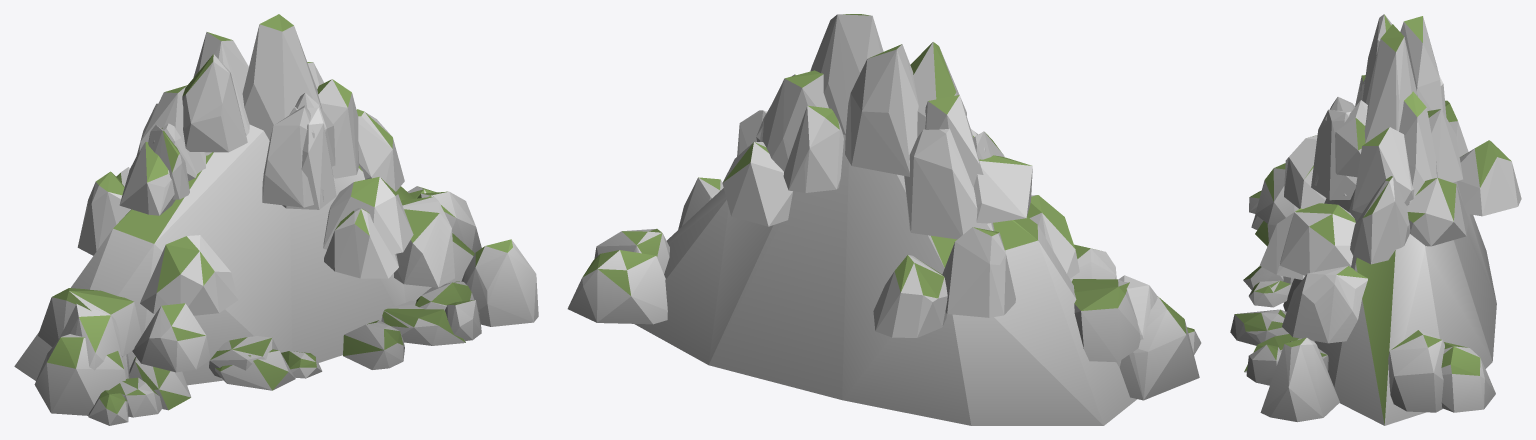
File: rk_mtn_1.glb
3 renders of one model, left to right at view 1: azimuth 30°, elevation 25°; view 2: azimuth 150°, elevation 25°; view 3: azimuth 270°, elevation 25°, orthographic. The views are drawn at different scales.
Parts seen in each view (by area): view 1: rk_mtn_1; view 2: rk_mtn_1; view 3: rk_mtn_1.
Boxes of the visible parts, x1,y1,x2,y2 form: rk_mtn_1: (14, 14, 538, 425); rk_mtn_1: (567, 14, 1201, 425); rk_mtn_1: (1230, 14, 1521, 425).
Bounding box in the file's own units: 112 × 65.93 × 59.56.
